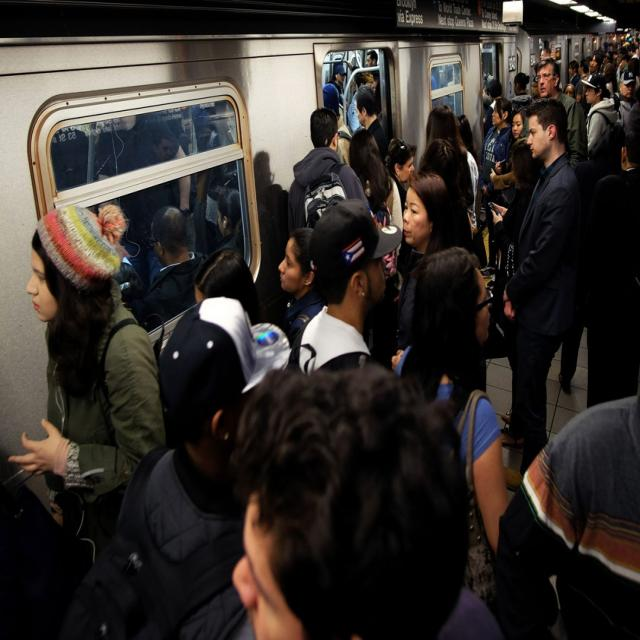body: (61, 293, 296, 639), (230, 382, 478, 640), (4, 204, 167, 540), (105, 55, 312, 304), (388, 246, 513, 607), (500, 95, 582, 496), (491, 380, 639, 587), (324, 43, 480, 188), (284, 198, 404, 376), (286, 198, 404, 373), (488, 135, 540, 425), (475, 23, 639, 102), (286, 106, 370, 242), (397, 171, 449, 352), (516, 56, 586, 172), (479, 97, 515, 288), (490, 106, 530, 210), (581, 71, 618, 154), (554, 314, 584, 396), (611, 69, 639, 138), (619, 130, 640, 184)
